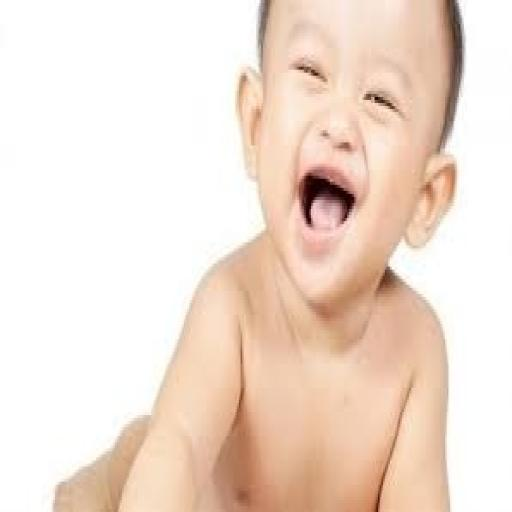laughing: (48, 0, 474, 509)
